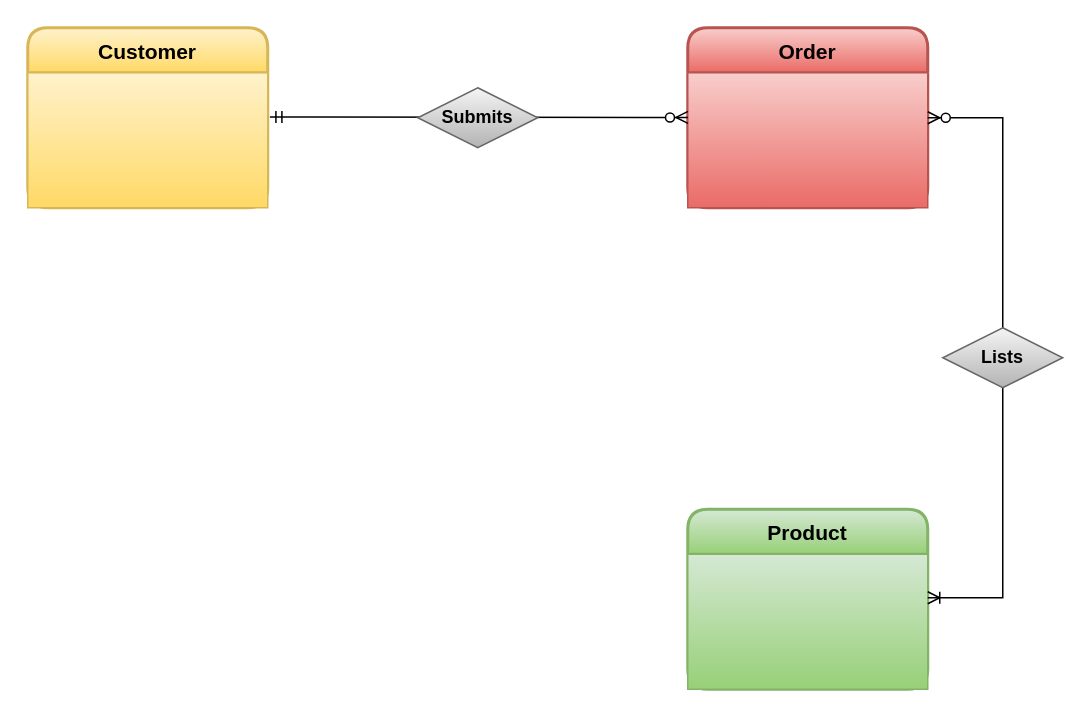
Image size: 1089x716. Some labels were removed from this diagram. Here are the shapes that lost their labels. From the top down, the centre of each, then its label:
At [147,139]: "Customer_ID [PK] First_Name Last_Name Contact #".
At [807,139]: "Order_ID [PK] Order_Date Cutomer_ID [FK]".
At [807,621]: "Product_ID [PK] Product_Description".
